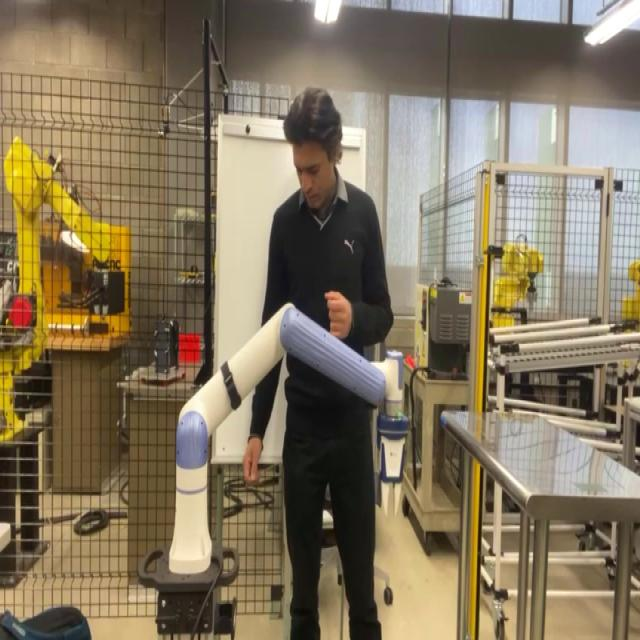robot: (138, 299, 390, 637)
